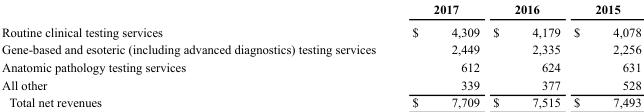table: (1, 1, 640, 109)
table column: (1, 1, 393, 109), (393, 1, 485, 109), (485, 1, 566, 109), (566, 1, 640, 109)
table column header: (1, 1, 640, 19)
table row: (1, 19, 640, 40), (1, 1, 640, 19), (1, 57, 640, 75), (1, 75, 640, 93), (1, 40, 640, 57), (1, 93, 640, 109)
